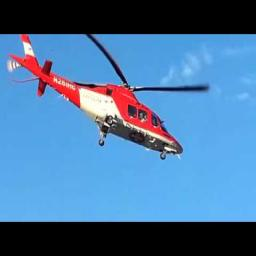helicopter: (7, 35, 212, 165)
